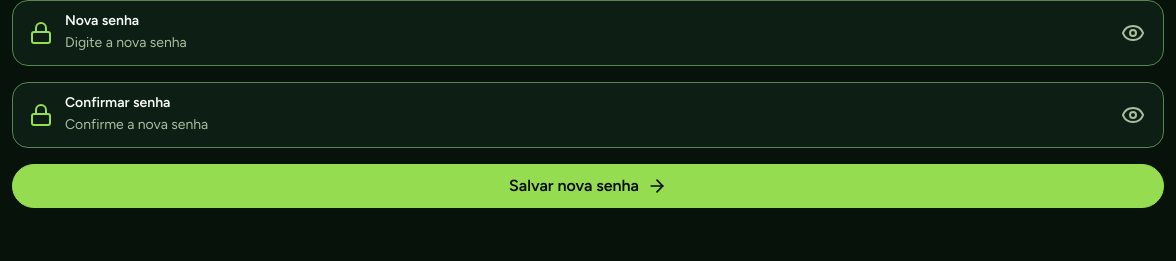
Test case: NovaSenhaForm › o erro inesperado mostra o aviso sem apagar o que foi digitado
In the password field labelled "Nova senha": (582, 43) [65,31,1099,55], type "nova-senha-123"
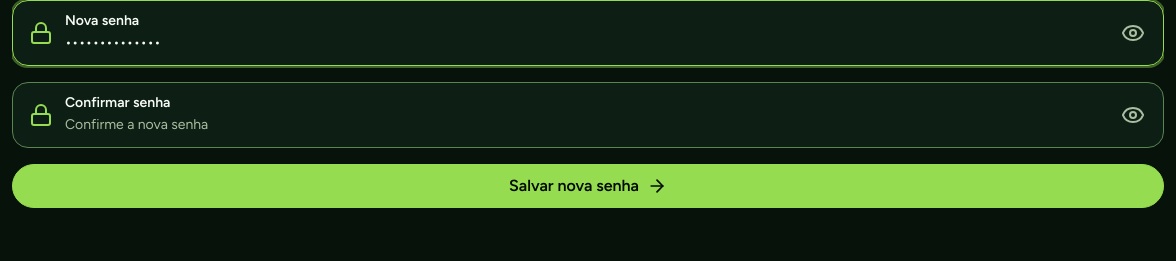
In the password field labelled "Confirmar senha": (582, 125) [65,113,1099,137], type "nova-senha-123"
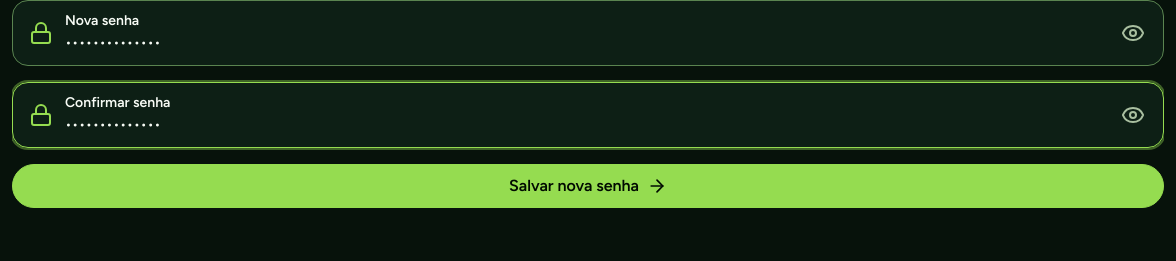
Click the button "Salvar nova senha": (588, 186) [12,164,1164,208]
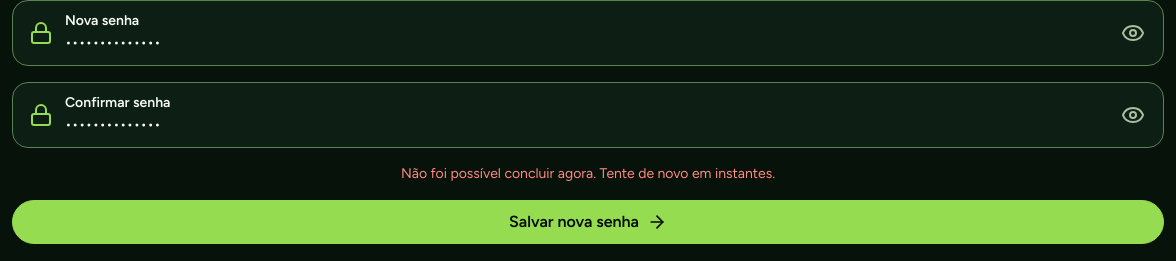
Now the text "Não foi possível concluir agora. Tente de novo em instantes." is shown, box [401,165,775,182]
